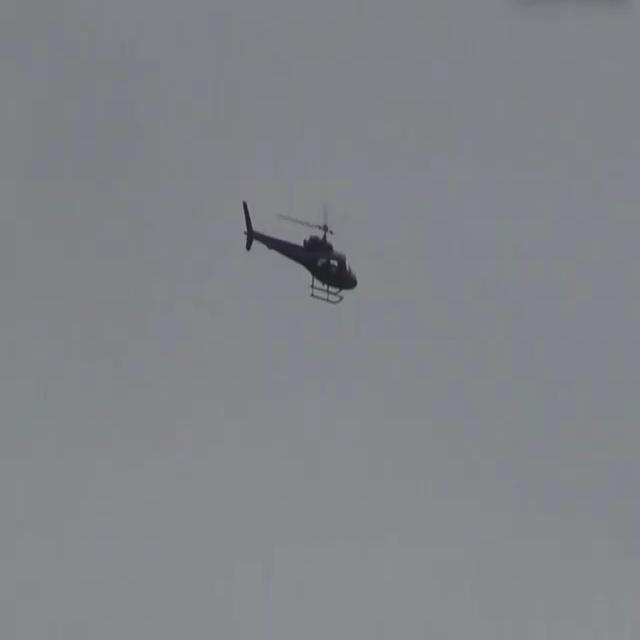Helicopter: (241, 182, 359, 332)
